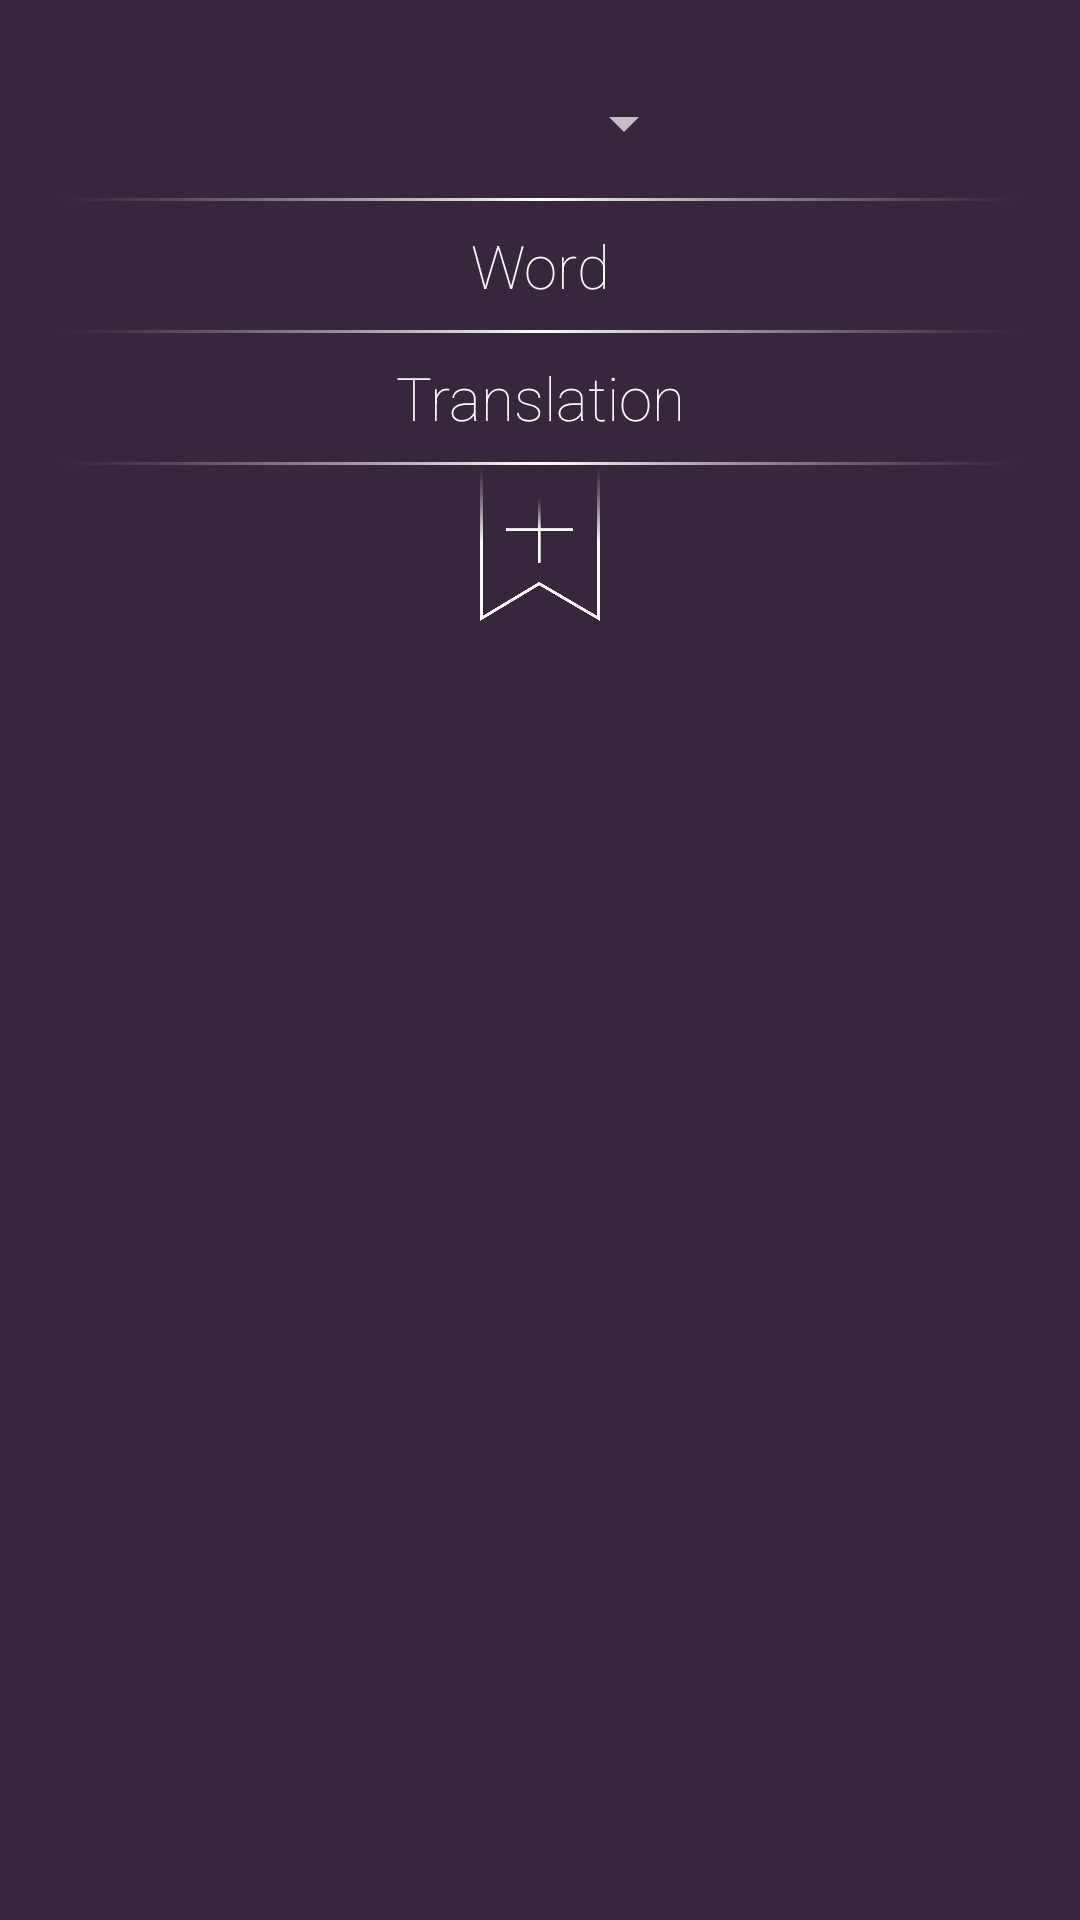

Icon bounding boxes for this 1080 × 1920 phone screenshot, format box(x1, y1, x2, y2):
bookmark: box(480, 481, 600, 621)
